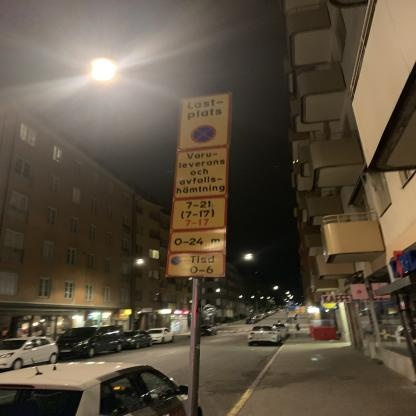lastplats: (175, 92, 232, 152)
